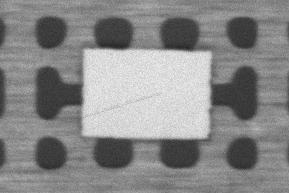DIE_CRACK: (124, 62, 241, 78)
